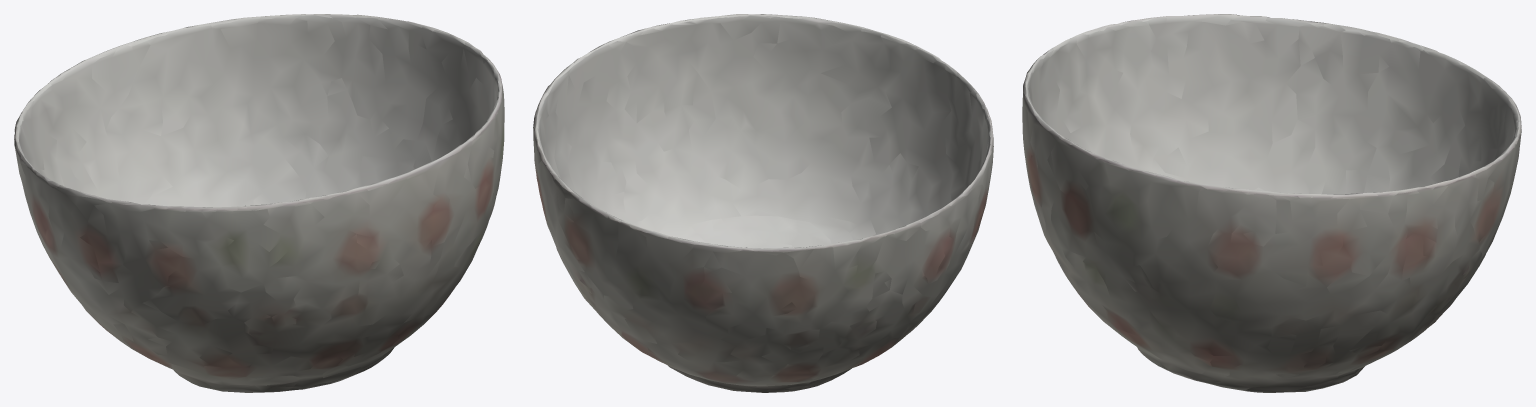
File: 0018_mask_019_white_bowl.glb
The picture shows the model from 3 angles, left to right: view 1: azimuth 30°, elevation 25°; view 2: azimuth 150°, elevation 25°; view 3: azimuth 270°, elevation 25°; orthographic projection. The views are drawn at different scales.
Parts seen in each view (by area): view 1: mask_019_object; view 2: mask_019_object; view 3: mask_019_object.
Boxes of the visible parts, x1=… form: mask_019_object: x1=14, y1=14, x2=504, y2=392; mask_019_object: x1=533, y1=14, x2=993, y2=392; mask_019_object: x1=1022, y1=14, x2=1521, y2=392.
Size of the model in its own units: 0.2637 by 0.1588 by 0.2638.
